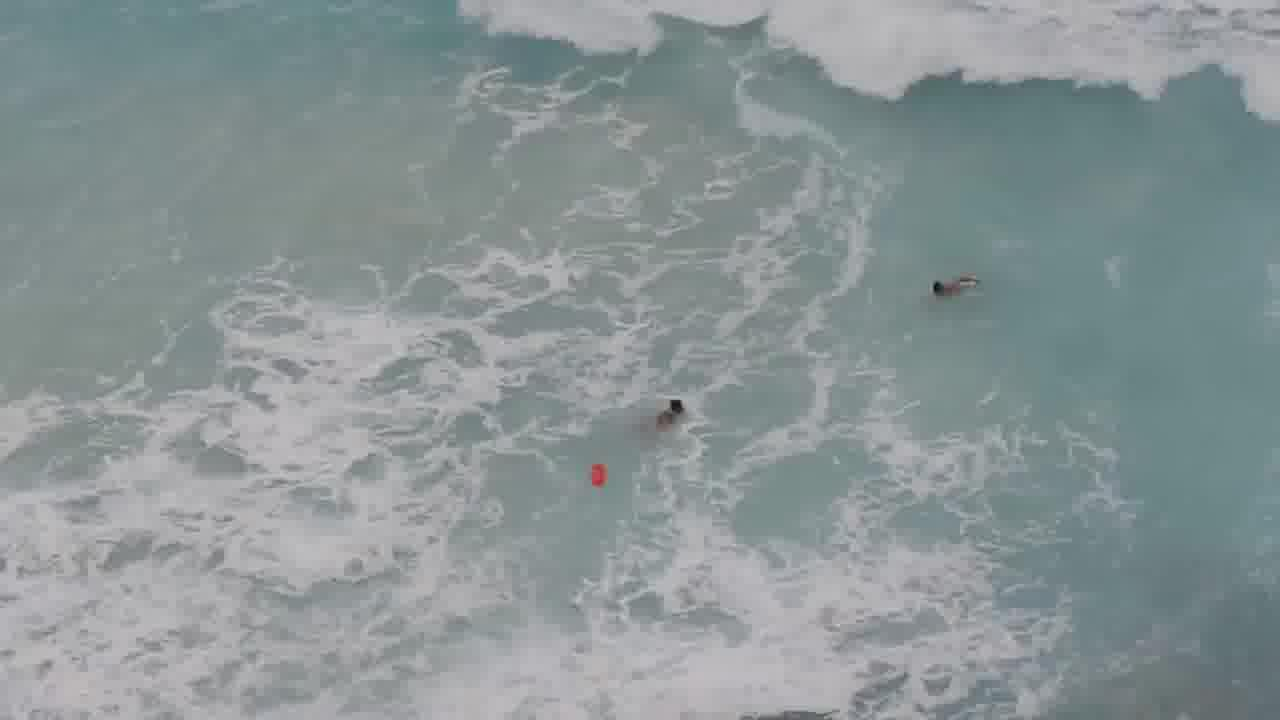swimmer: (919, 268, 982, 302), (645, 399, 705, 431)
